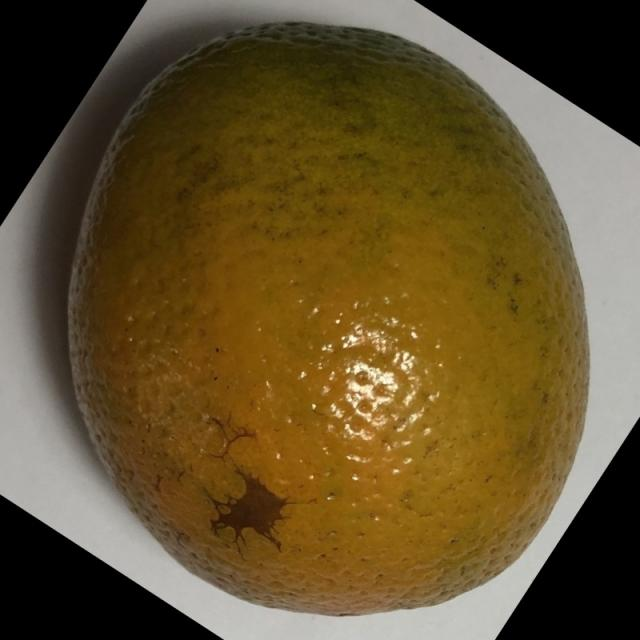canker: (54, 16, 609, 624)
